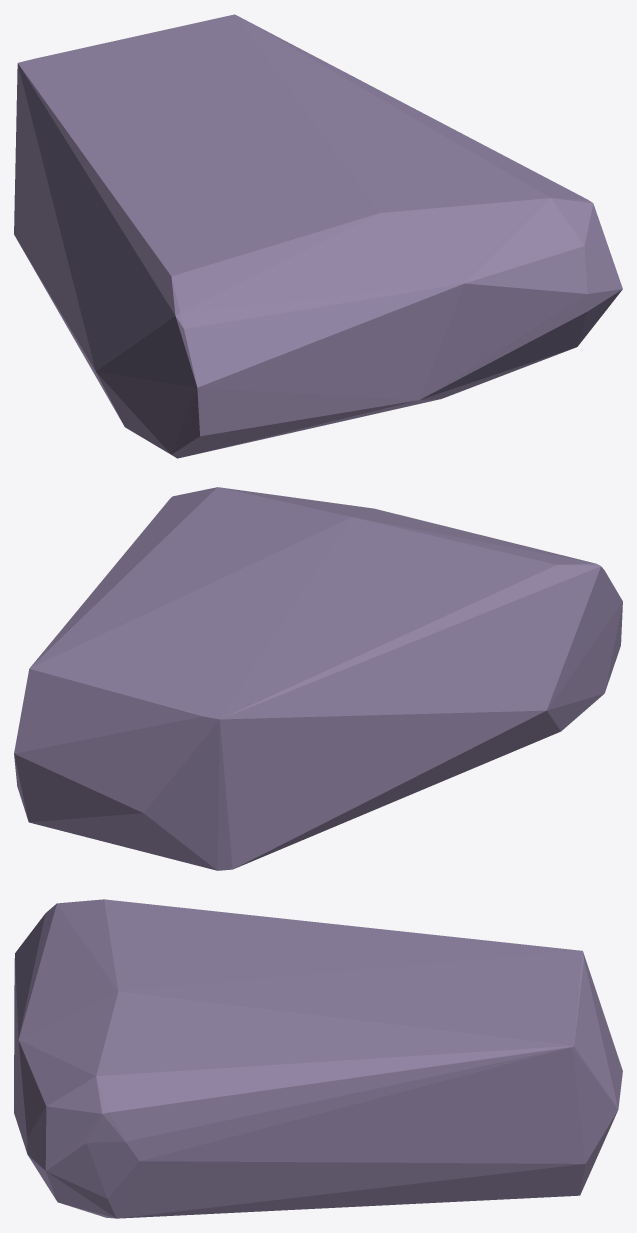
File: powerTool_impact_wrench_a01.glb
3 views of the same model, one above another, from view 1: azimuth 30°, elevation 25°; view 2: azimuth 150°, elevation 25°; view 3: azimuth 270°, elevation 25° (orthographic). The views are drawn at different scales.
Visible parts, largest first — view 1: geometry_0; view 2: geometry_0; view 3: geometry_0.
Part boxes in pixels (x1,y1,x2,y2): geometry_0: [14, 14, 622, 458]; geometry_0: [14, 487, 622, 870]; geometry_0: [14, 899, 622, 1218].
Size of the model in its own units: 0.3766 by 0.1411 by 0.4754.
